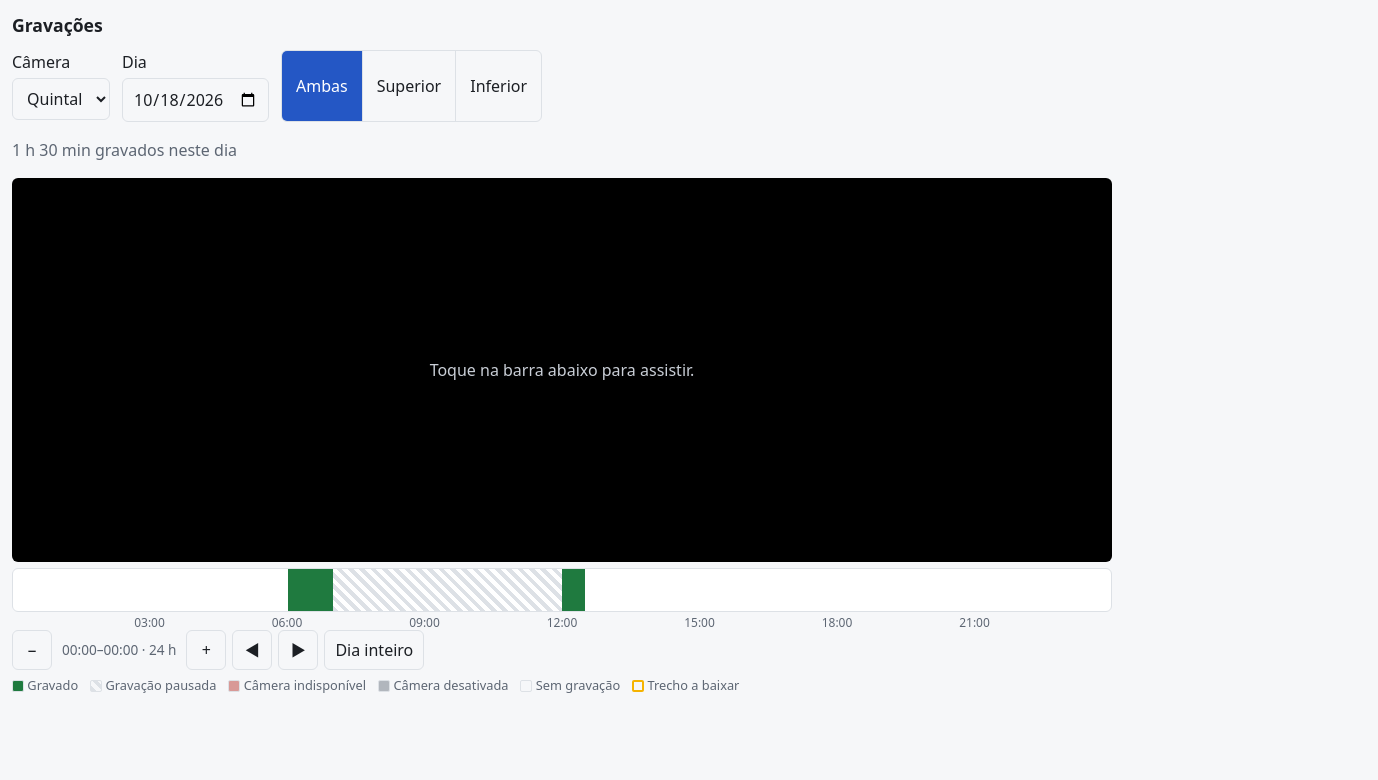
RecordingsPage › zoom e arrasto da barra mudam a janela sem tocar o vídeo
expect the text "1 h 30 min gravados neste dia" is shown: met, box top-left (12, 139), bottom-right (237, 161)
expect the text "00:00–00:00 · 24 h" is shown: met, box top-left (58, 640), bottom-right (180, 661)
Click the button named "Aproximar": (206, 650) top-left (186, 630), bottom-right (226, 670)
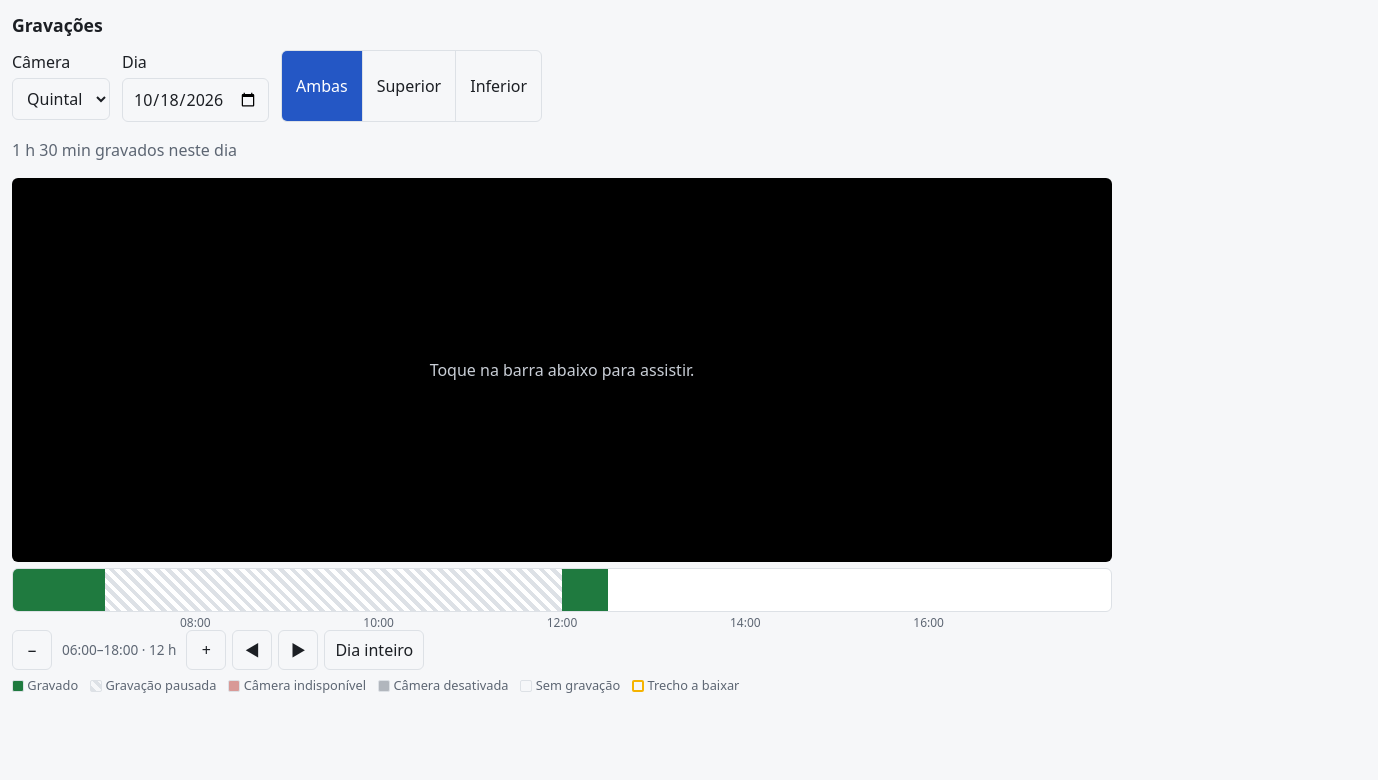
expect the text "06:00–18:00 · 12 h" is shown: met, box top-left (58, 640), bottom-right (180, 661)
Click the button named "Aproximar": (206, 650) top-left (186, 630), bottom-right (226, 670)
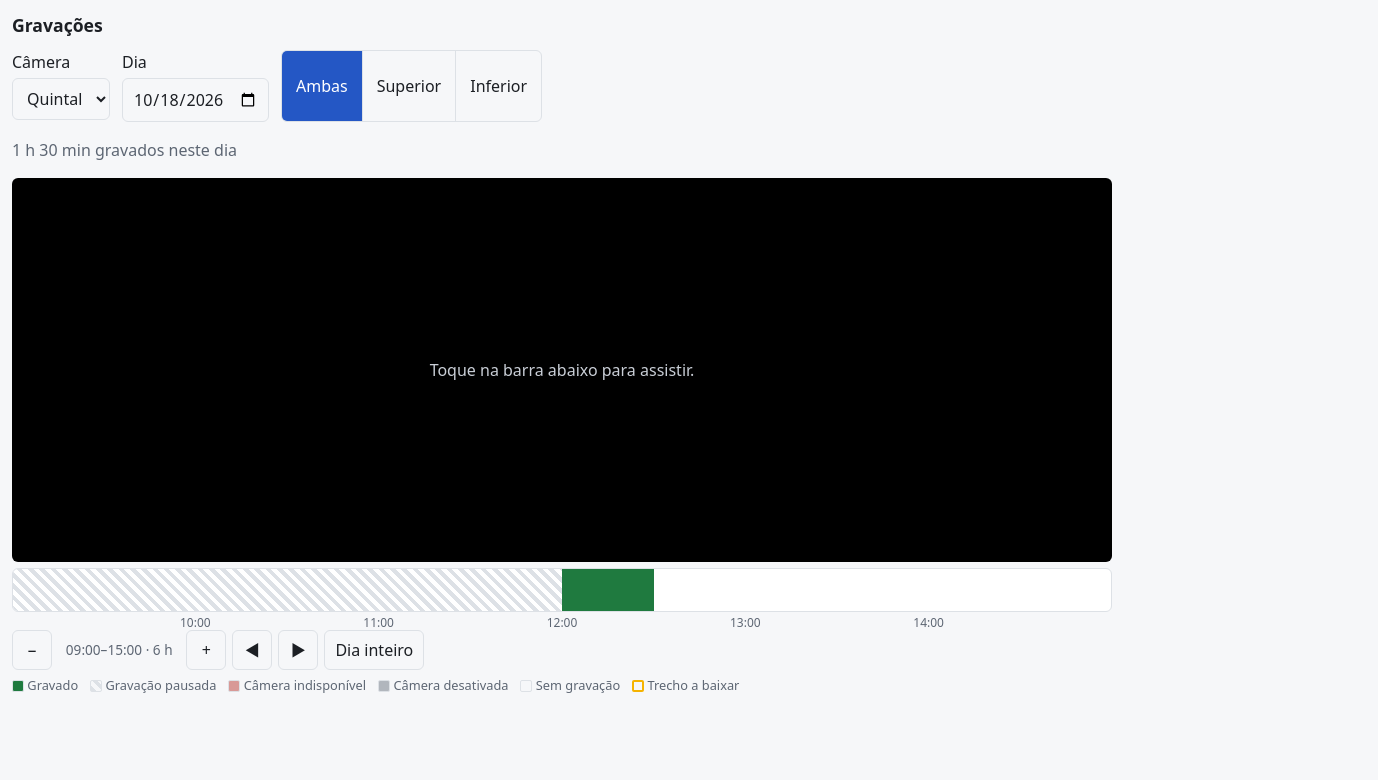
Click the button named "Aproximar": (206, 650) top-left (186, 630), bottom-right (226, 670)
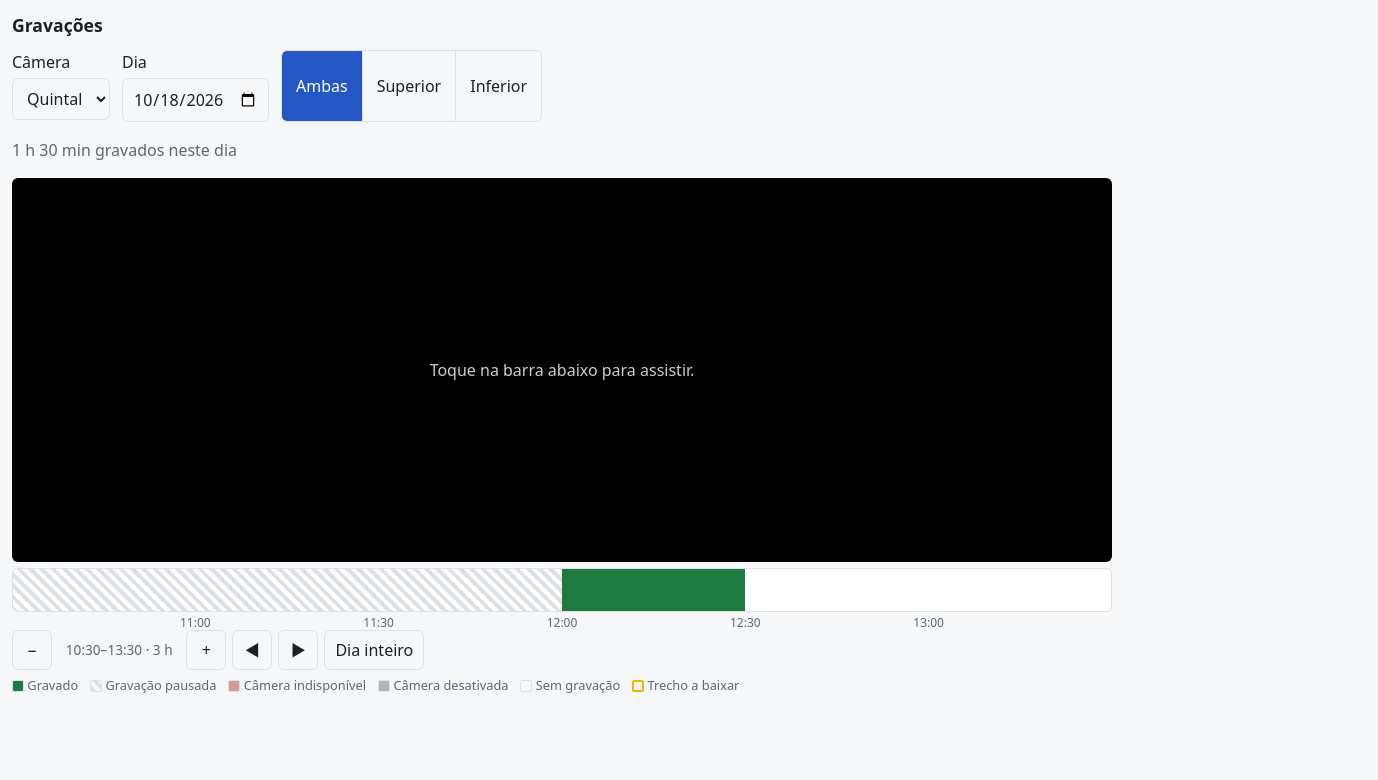
expect the text "10:30–13:30 · 3 h" is shown: met, box top-left (58, 640), bottom-right (180, 661)
Press the mouse on the slider named "Linha do tempo das gravações": (562, 590) top-left (12, 568), bottom-right (1112, 612)
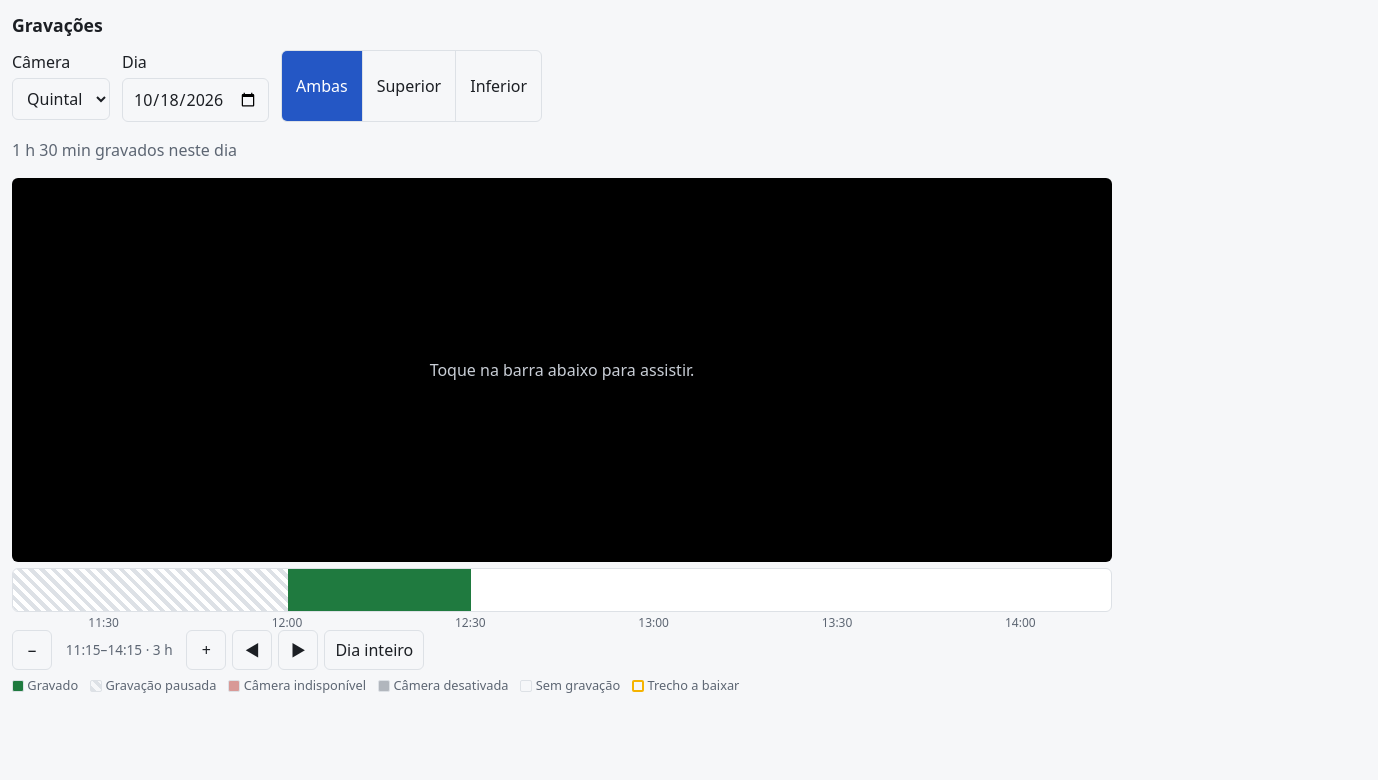
expect the text "11:15–14:15 · 3 h" is shown: met, box top-left (58, 640), bottom-right (180, 661)
Click the button "Dia inteiro": (374, 650) top-left (324, 630), bottom-right (424, 670)
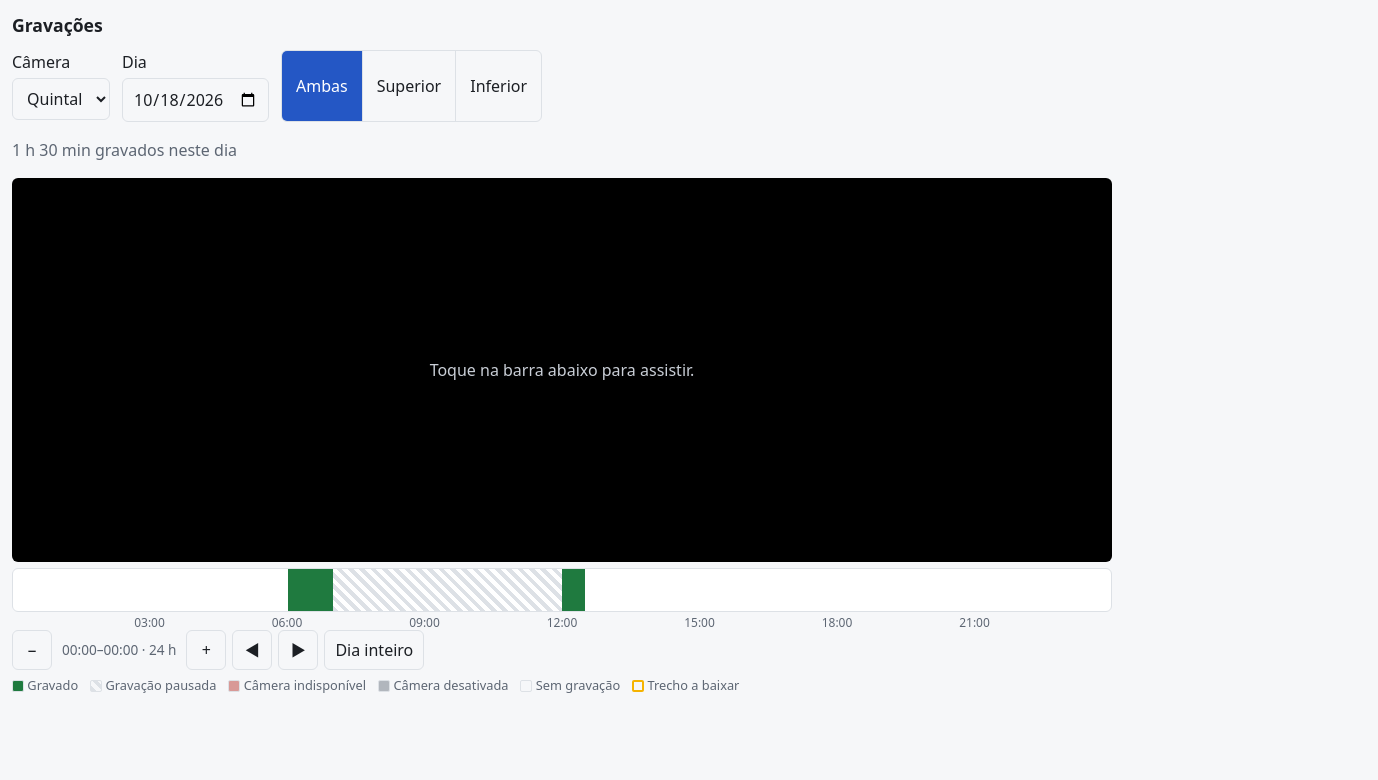
expect the text "00:00–00:00 · 24 h" is shown: met, box top-left (58, 640), bottom-right (180, 661)
